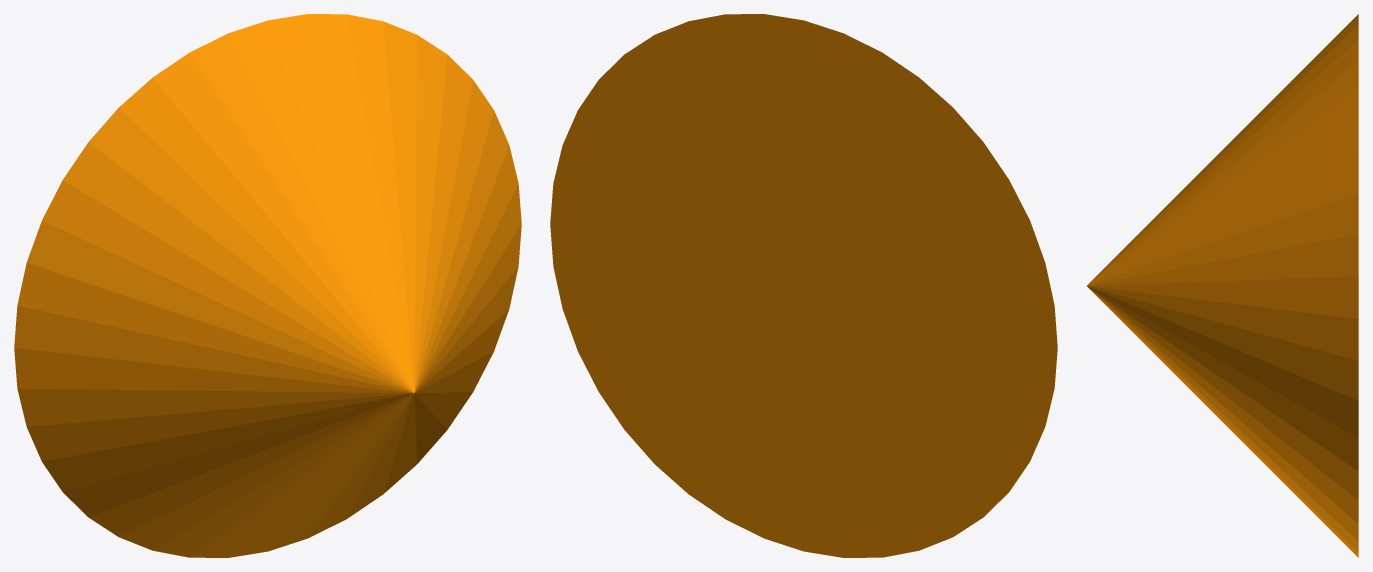
Rendered from SGOP_data_4.obj.
3 renders of one model, left to right at view 1: azimuth 30°, elevation 25°; view 2: azimuth 150°, elevation 25°; view 3: azimuth 270°, elevation 25°, orthographic. The views are drawn at different scales.
Size of the model in its own units: 50 by 50 by 25.
